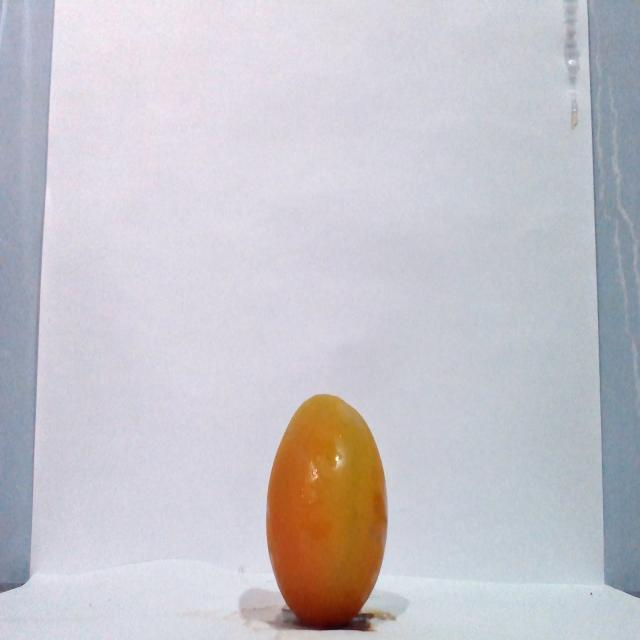Red: (264, 392, 389, 628)
